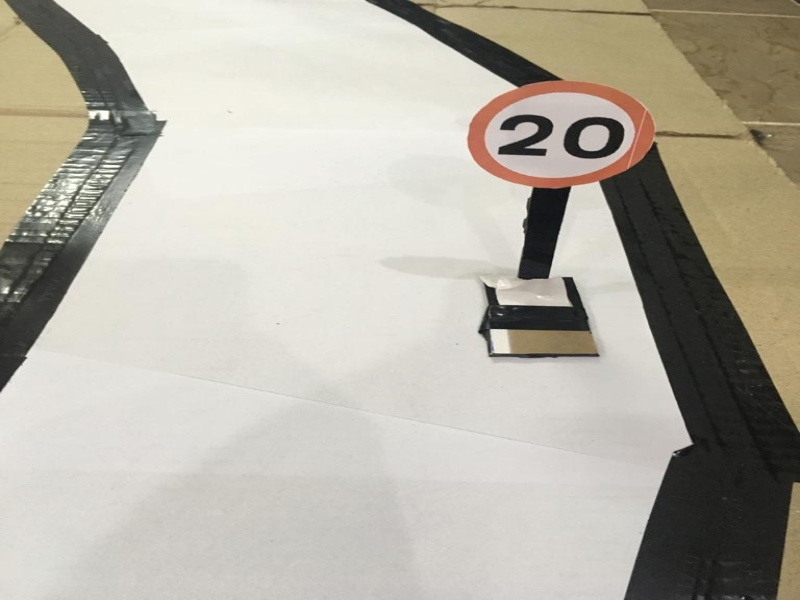Stop: (472, 78, 658, 187)
